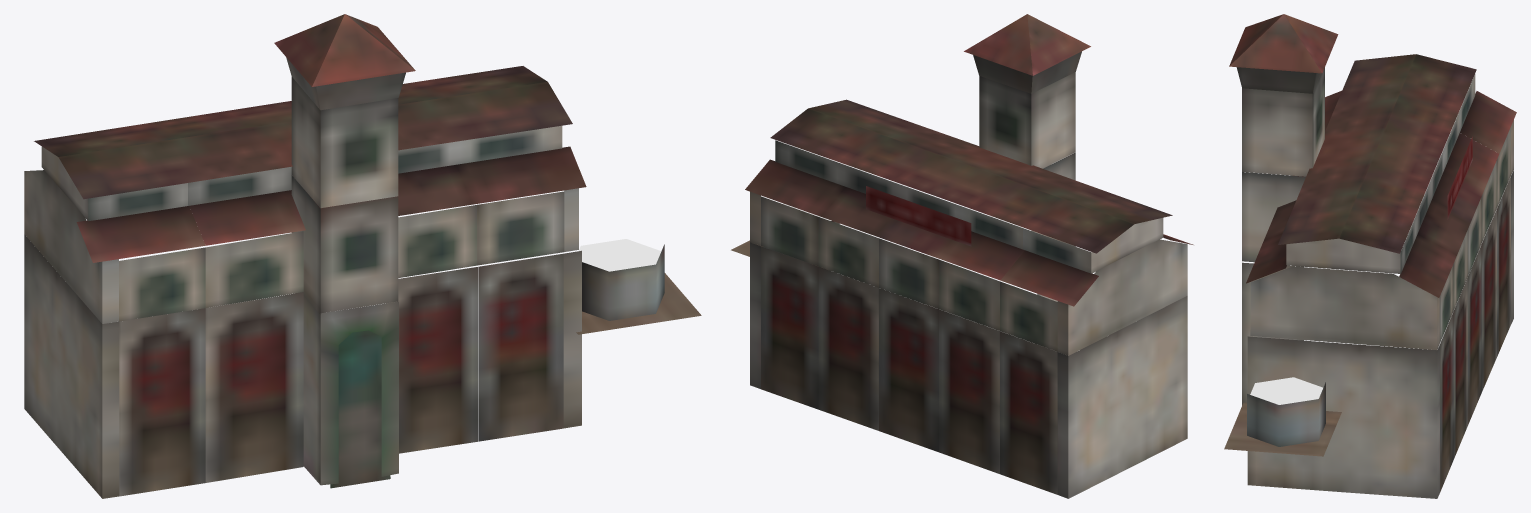
File: glb_4.glb
3 renders of one model, left to right at view 1: azimuth 30°, elevation 25°; view 2: azimuth 150°, elevation 25°; view 3: azimuth 270°, elevation 25°, orthographic. The views are drawn at different scales.
Bounding box in the file's own units: 4.23 × 3.22 × 2.22.
2 materials, 1 textured.
